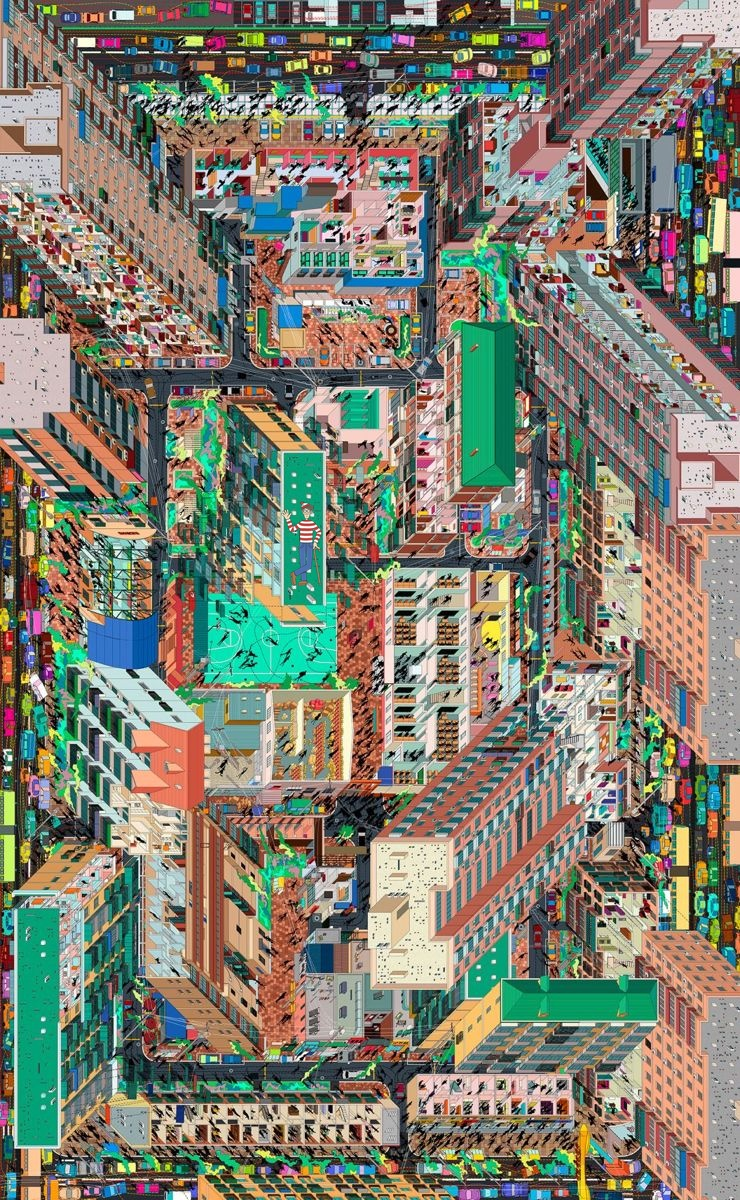waldo: (281, 501, 322, 586)
